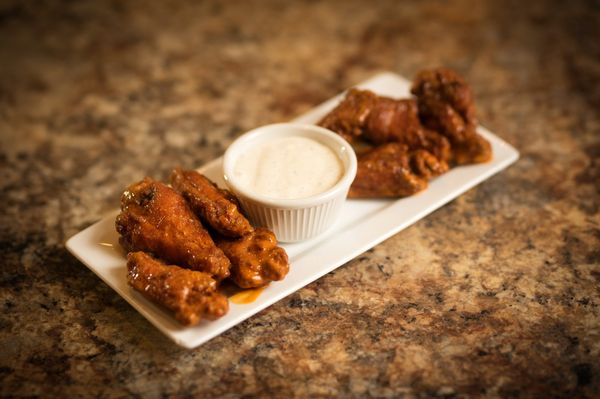sushi: (222, 123, 358, 244)
